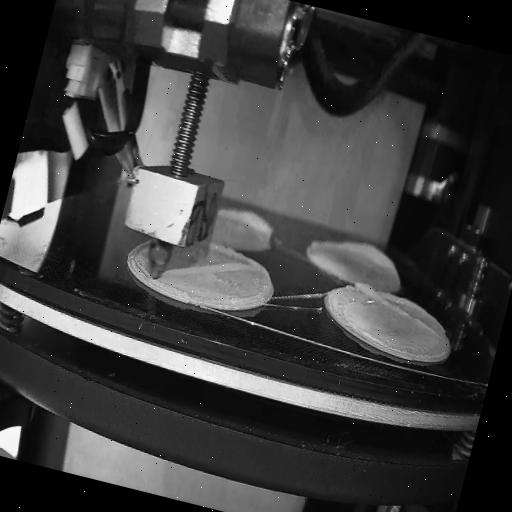over_extrusion: (162, 241, 262, 301), (304, 226, 408, 282), (346, 277, 444, 335), (214, 200, 282, 247)
